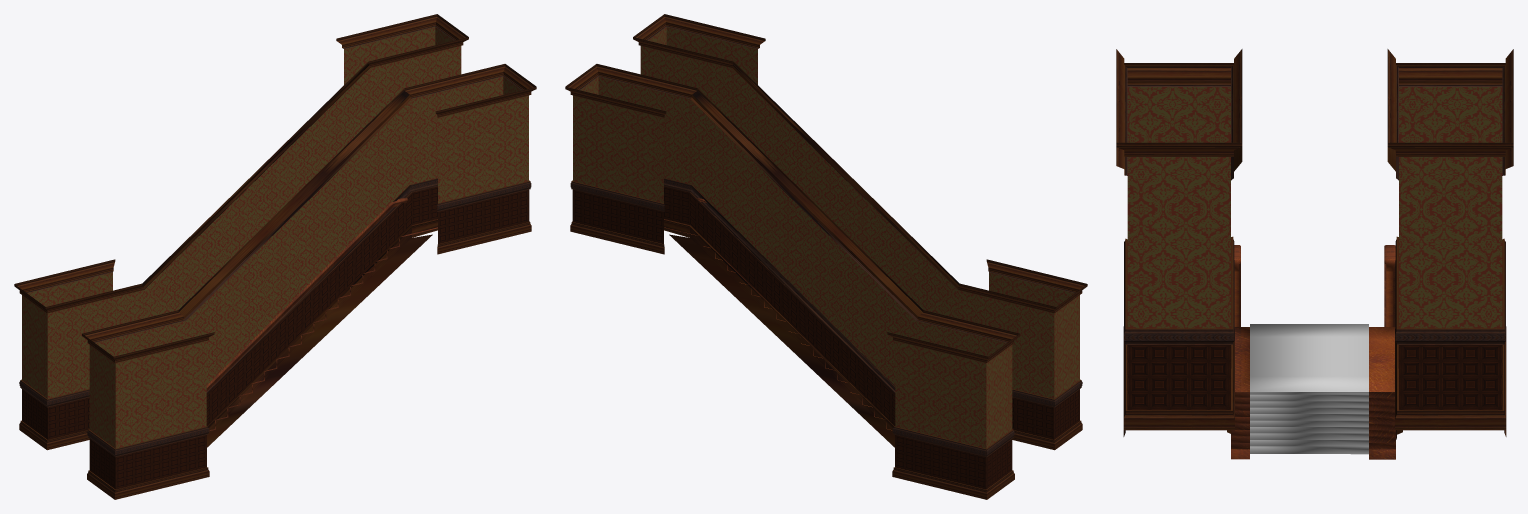
Rendered from StaircaseStraightup.fbx.
3 renders of one model, left to right at view 1: azimuth 30°, elevation 25°; view 2: azimuth 150°, elevation 25°; view 3: azimuth 270°, elevation 25°, orthographic. The views are drawn at different scales.
Visible parts, largest first — view 1: Stairwallright, StairwallLeft, StaircaseStraightup; view 2: StairwallLeft, Stairwallright; view 3: StairwallLeft, Stairwallright, StaircaseStraightup.
Boxes of the visible parts, bbox=[...] form: Stairwallright: bbox=[82, 64, 536, 499]; StairwallLeft: bbox=[14, 14, 468, 450]; StaircaseStraightup: bbox=[206, 198, 437, 431]; StairwallLeft: bbox=[565, 64, 1019, 499]; Stairwallright: bbox=[633, 14, 1087, 450]; StairwallLeft: bbox=[1387, 49, 1513, 439]; Stairwallright: bbox=[1116, 49, 1242, 436]; StaircaseStraightup: bbox=[1231, 245, 1395, 459].
Size of what is drawn, in the model's own units: 857 by 604 by 349.
